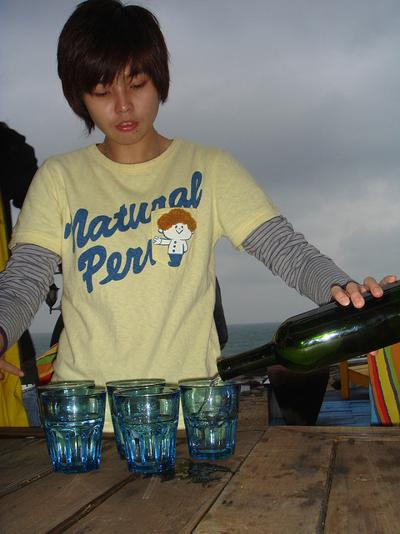person: (2, 1, 397, 435)
